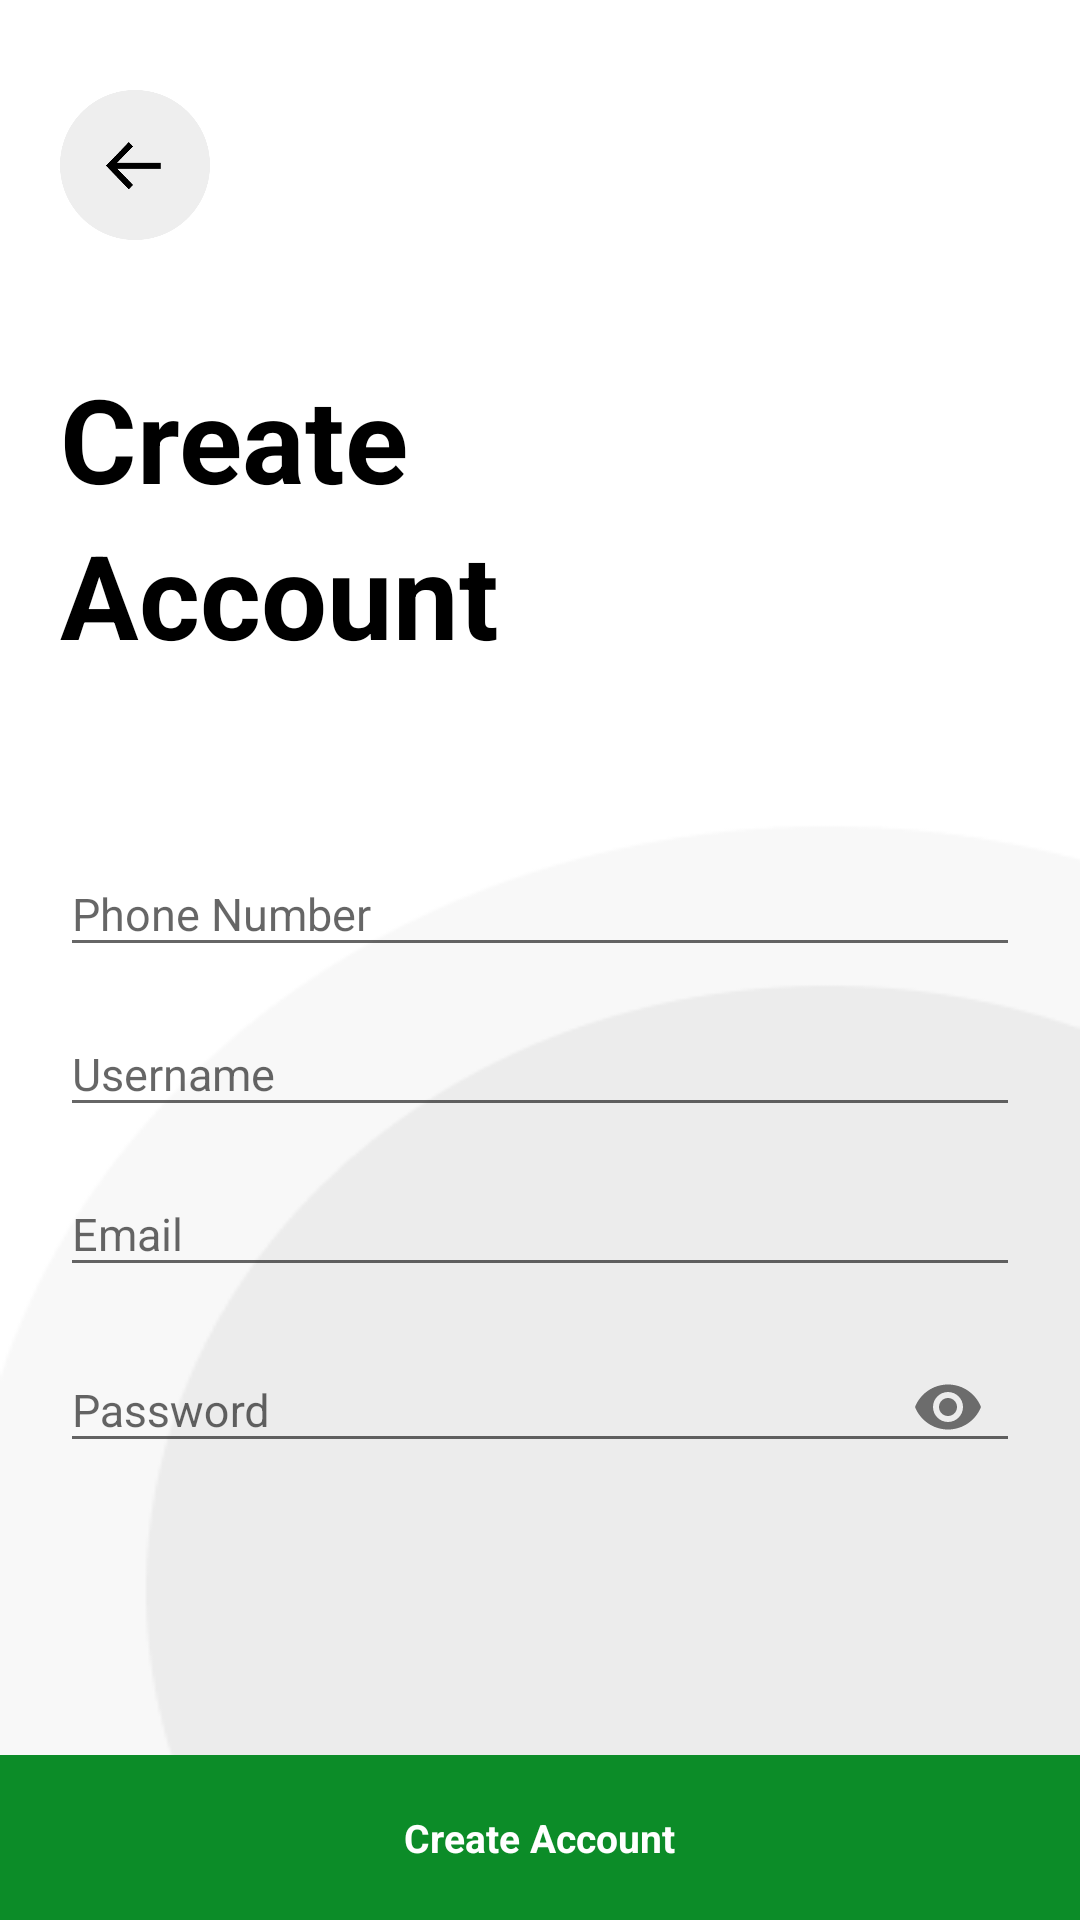

Icons on this 1080x1920 Android screen, each with its box as (x1, y1, x2, y2):
arrow: (60, 90, 210, 240)
